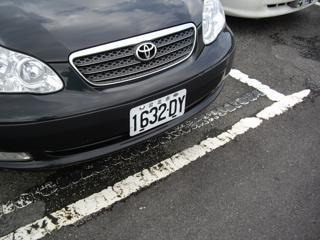plate: (128, 93, 187, 129)
